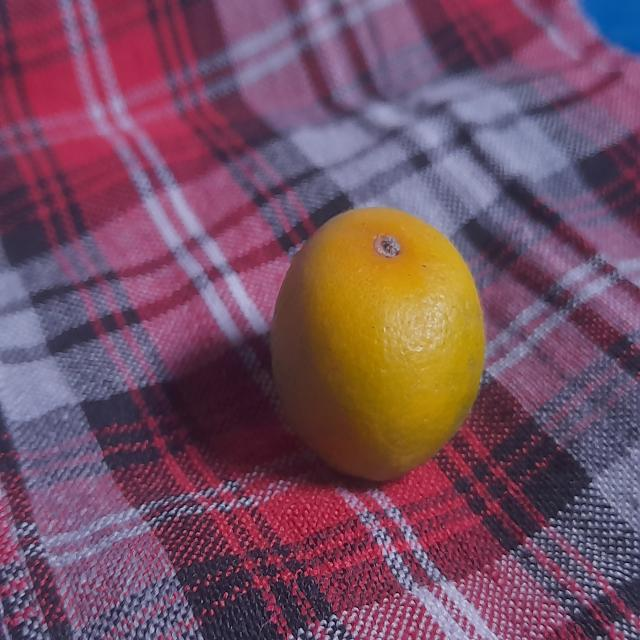greening: (266, 201, 486, 478)
